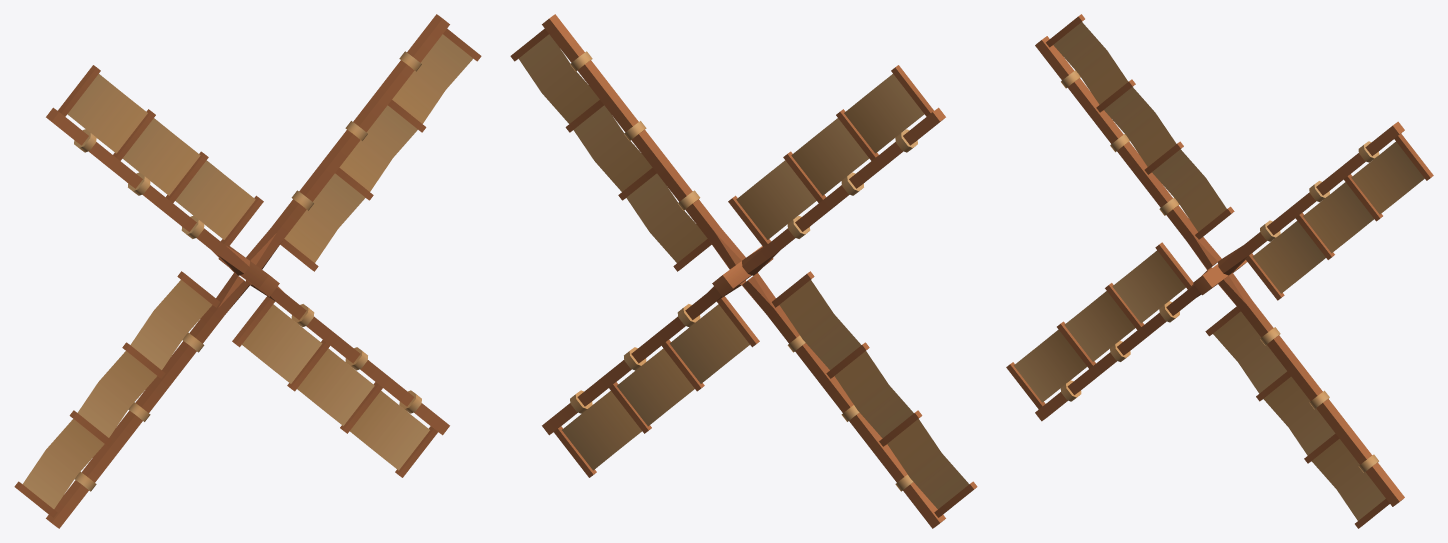
The model's file is ailes-moulin.glb.
3 renders of one model, left to right at view 1: azimuth 30°, elevation 25°; view 2: azimuth 150°, elevation 25°; view 3: azimuth 330°, elevation 25°, orthographic. The views are drawn at different scales.
Visible parts, largest first — view 1: windmill; view 2: windmill; view 3: windmill.
Boxes of the visible parts, x1=… form: windmill: x1=14, y1=14, x2=481, y2=528; windmill: x1=510, y1=14, x2=977, y2=528; windmill: x1=1006, y1=14, x2=1433, y2=528.
Size of the model in its own units: 9.34 by 9.34 by 1.41.
1 material, 1 textured.
